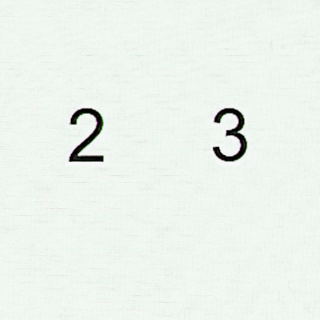three: (211, 106, 250, 164)
two: (66, 106, 107, 166)
